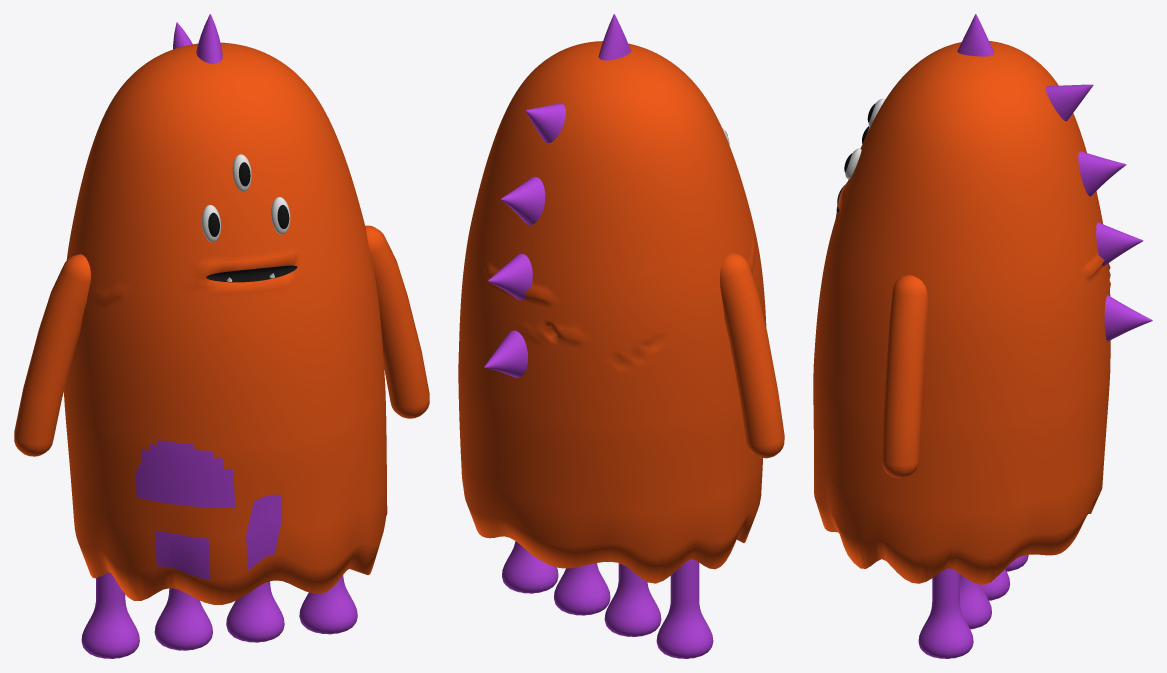
Rendered from Menny_Final_.FBX.
3 renders of one model, left to right at view 1: azimuth 30°, elevation 25°; view 2: azimuth 150°, elevation 25°; view 3: azimuth 270°, elevation 25°, orthographic. The views are drawn at different scales.
Parts seen in each view (by area): view 1: menny, braços, 4_PES, boca, Cone001; view 2: menny, 4_PES, braços, Cone005, Cone003, Cone004, Cone002, Cone001; view 3: menny, braços, 4_PES, Cone005, Cone003, Cone004, Cone002, Cone001.
Part boxes in pixels (x1,y1,x2,y2): menny: (64,42,387,604); braços: (14,225,429,456); 4_PES: (81,572,357,658); boca: (206,265,297,282); Cone001: (196,14,222,63); menny: (458,41,766,583); 4_PES: (502,541,713,658); braços: (720,253,784,458); Cone005: (484,330,528,377); Cone003: (500,176,545,225); Cone004: (488,253,532,300); Cone002: (525,103,566,143); Cone001: (598,14,630,60); menny: (813,41,1110,584); braços: (881,275,927,478); 4_PES: (918,555,1028,658); Cone005: (1104,295,1152,341); Cone003: (1078,151,1126,196); Cone004: (1096,222,1143,266); Cone002: (1045,84,1093,121); Cone001: (957,14,994,56).
Bounding box in the file's own units: 34.82 × 58.02 × 30.14.
